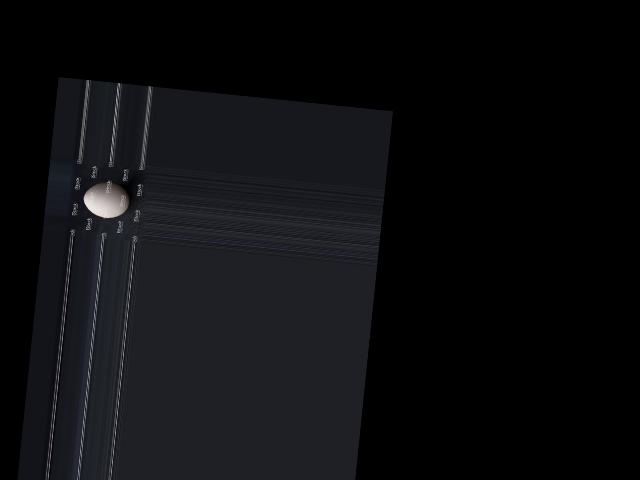egg: (82, 180, 131, 219)
